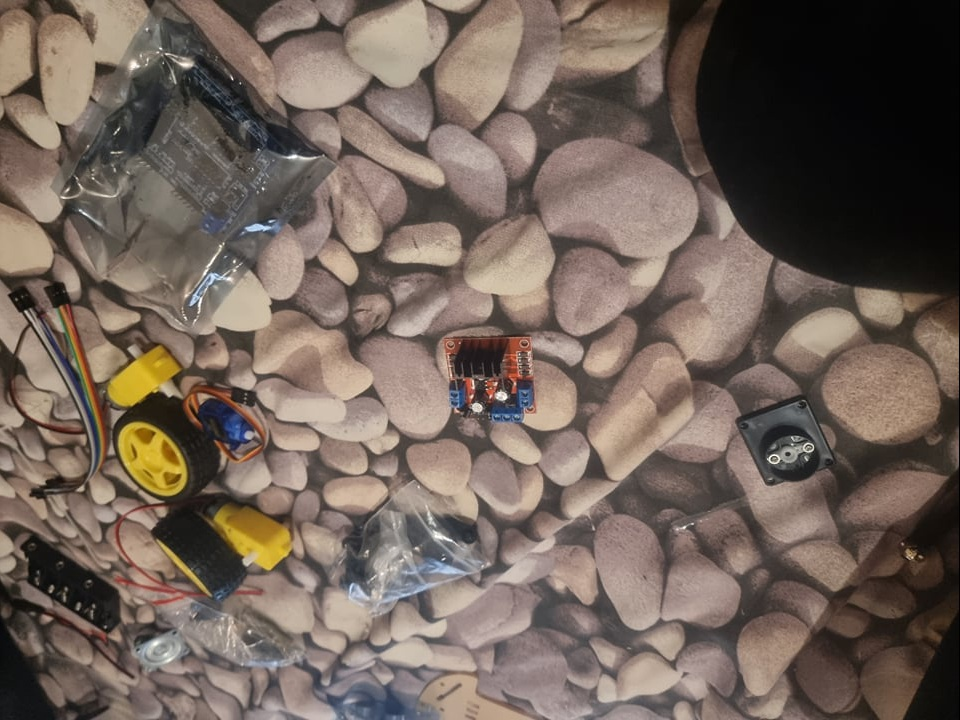BATTERY BOX: (15, 542, 123, 635)
MOTOR: (440, 333, 543, 424)
